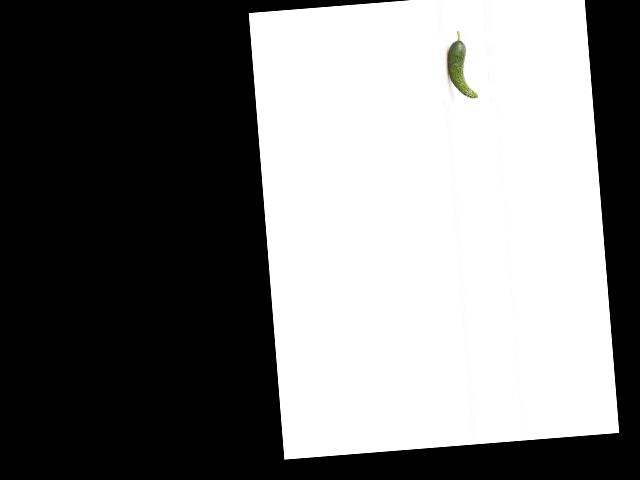cucumber: (445, 29, 477, 99)
